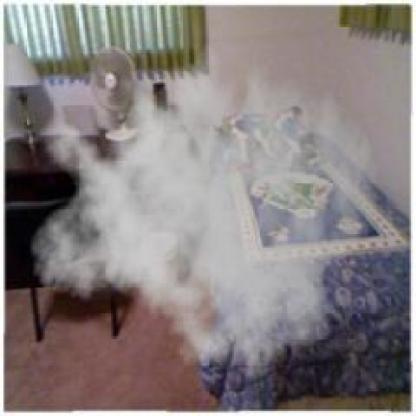Smoke: (28, 25, 378, 388)
